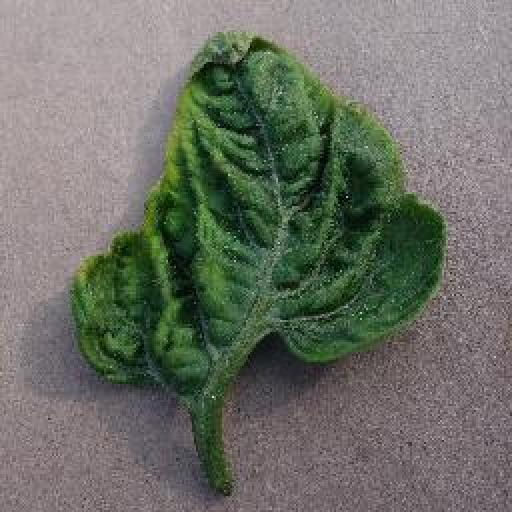Yellow Leaf Curl Virus: (71, 28, 448, 388)
